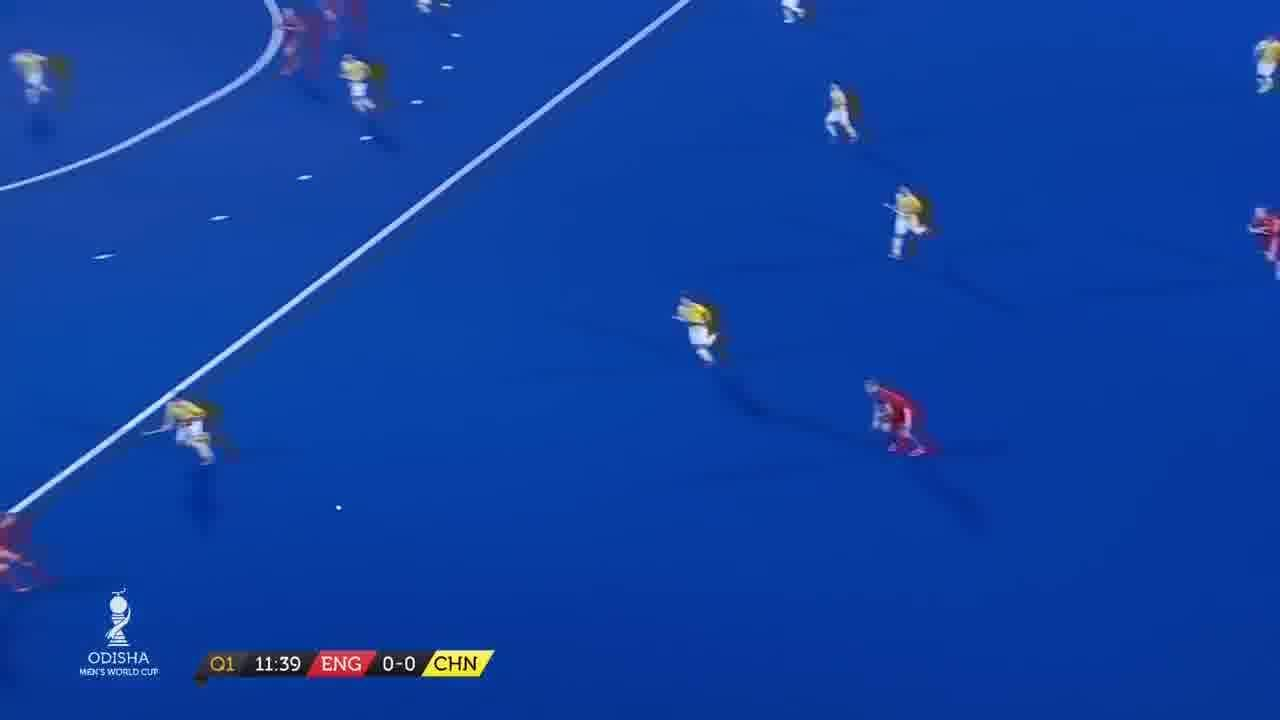ball: (335, 504, 345, 516)
